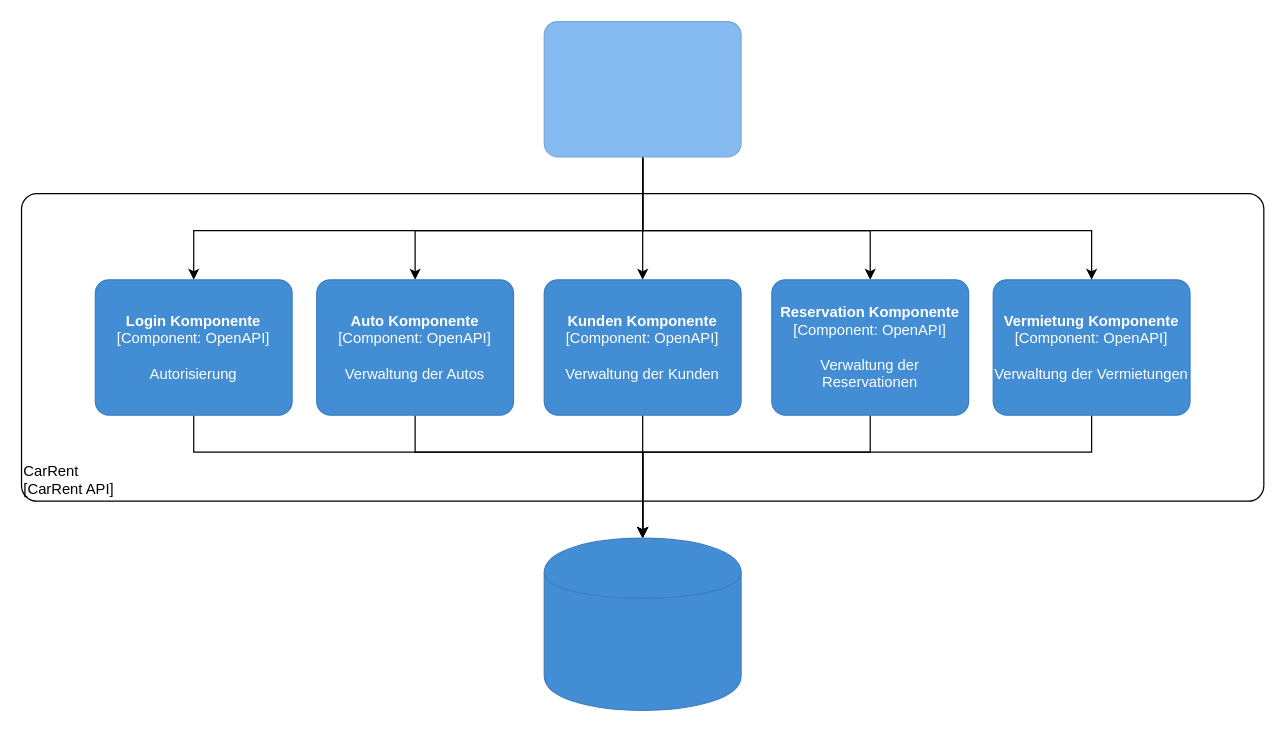
The diagram is 1285 pixels wide and 732 high, and some of its shapes have lost their labels. Each missing label, with the centre of its shape:
Client [Container: Blazor] Web Application: pixel 642 88
Database [Container: MySQL] Relationale Datenbank: pixel 642 623
